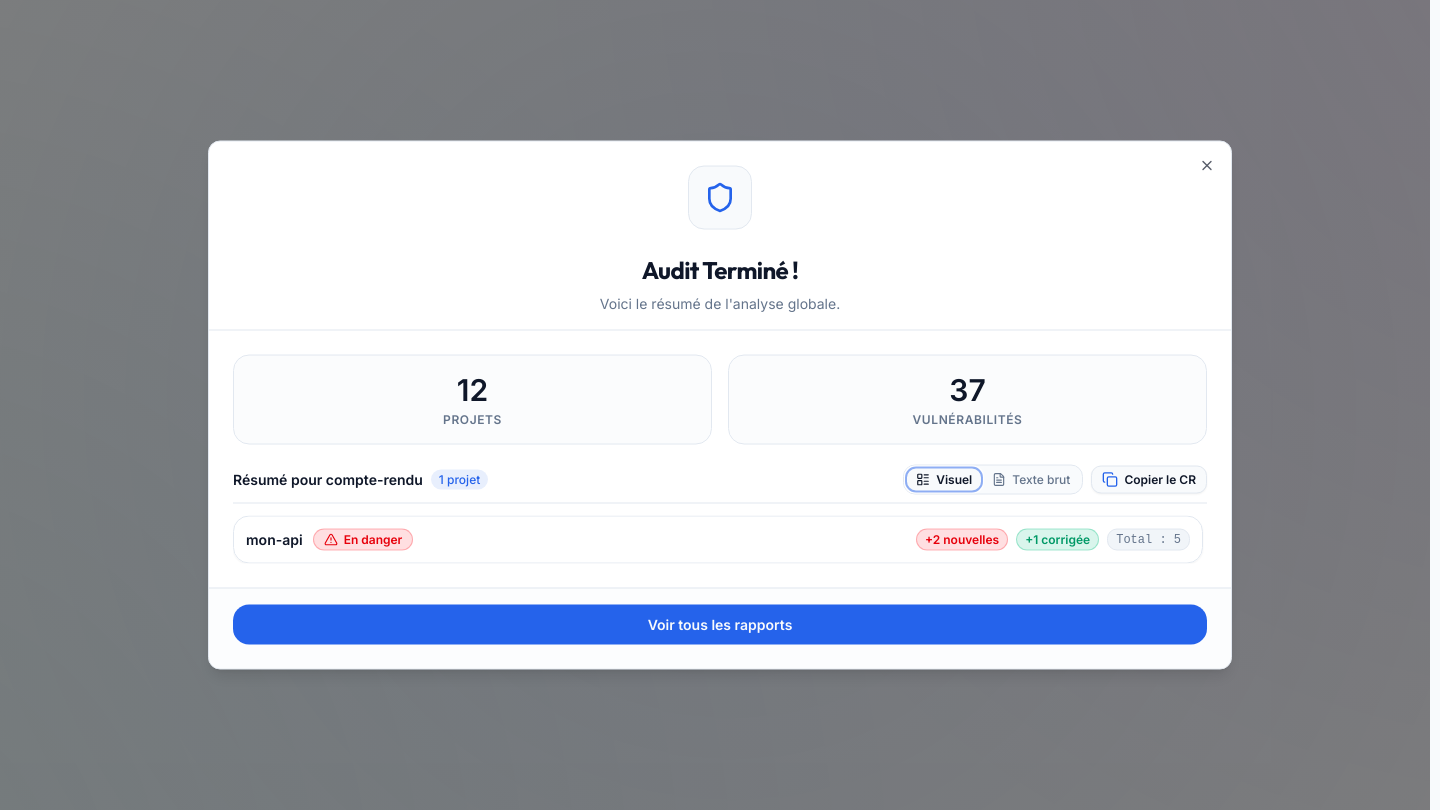
it: ReportModal › permet de basculer sur le texte brut et affiche la zone de texte
What coordinates should you click on to do the following:
click the button "Texte brut"
I would click on:
 (1031, 480)
Its box is [982,468,1080,492].
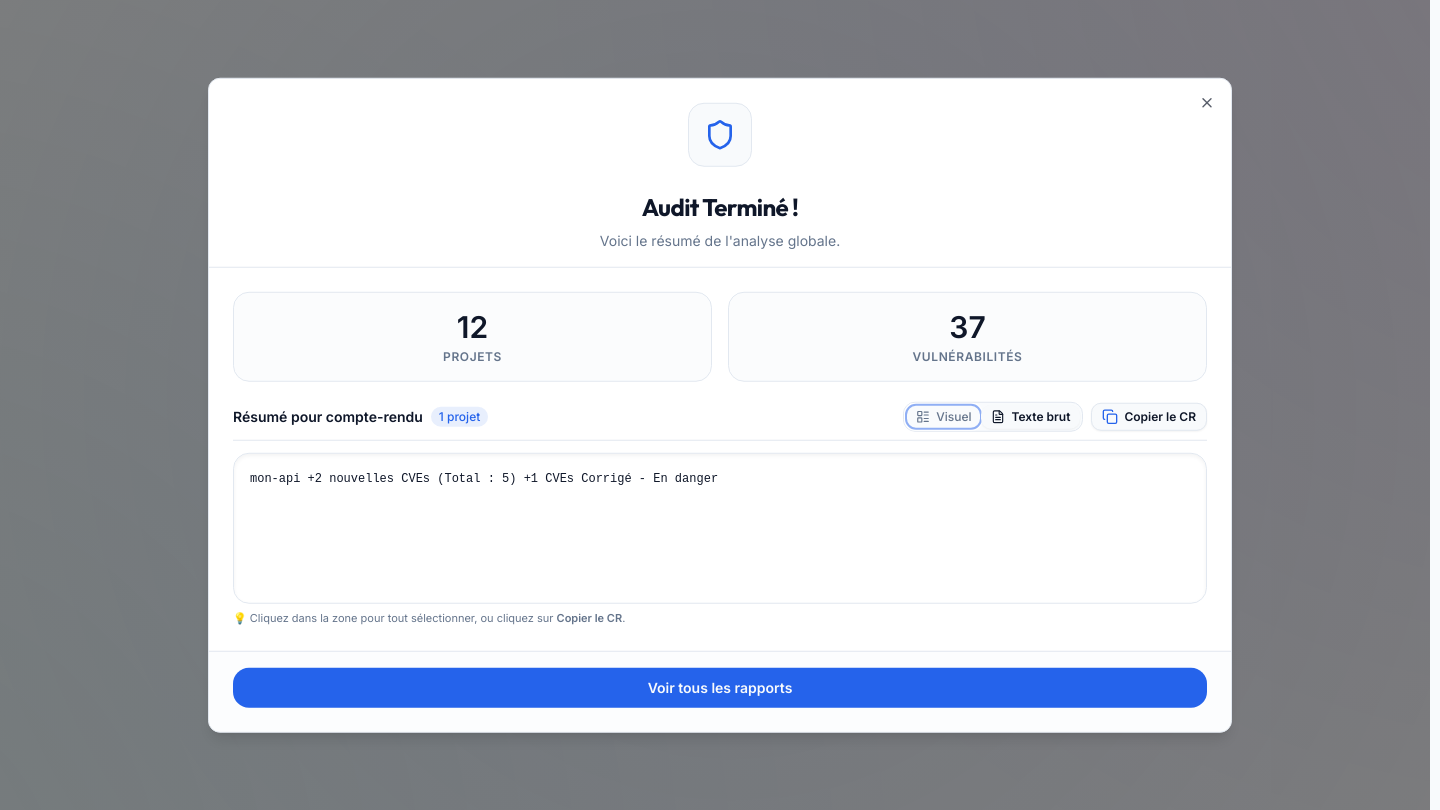
Check: the text box showing "mon-api +2 nouvelles CVEs (Total : 5) +1 CVEs Corrigé - En danger" is shown, box [233,453,1207,604]
